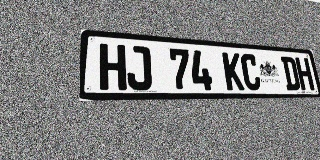4: (189, 50, 213, 90)
7: (168, 48, 192, 90)
C: (240, 53, 262, 90)
D: (281, 56, 301, 90)
H: (99, 43, 127, 90), (295, 57, 315, 90)
J: (126, 45, 152, 90)
K: (222, 52, 245, 90)
